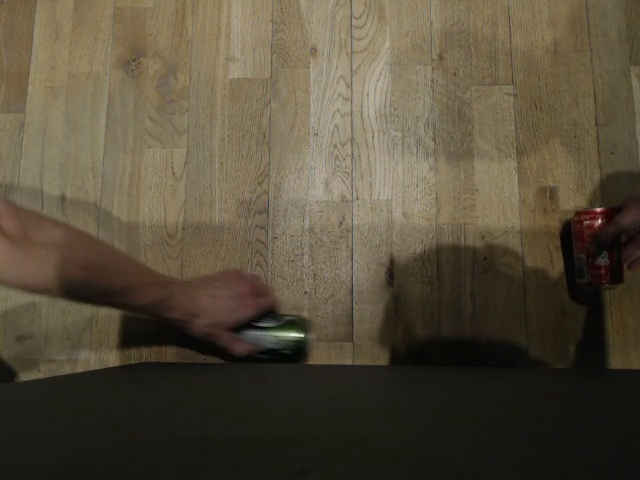beer: (226, 313, 311, 367)
cola: (567, 204, 619, 287)
